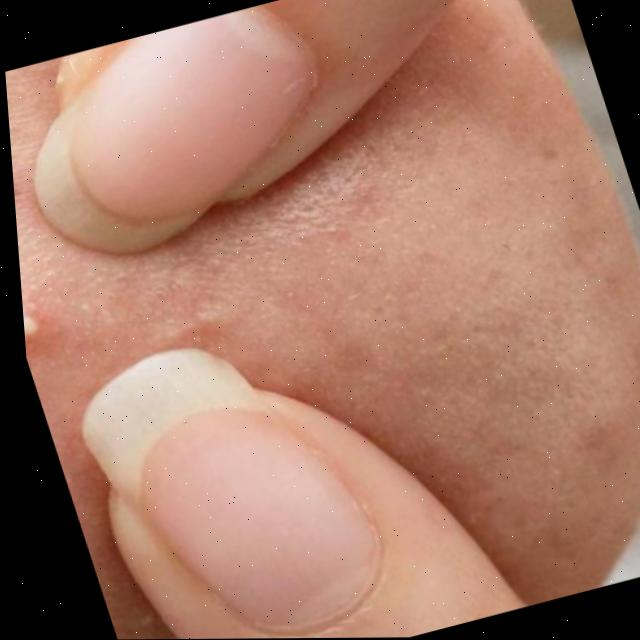Acne: (23, 307, 49, 343)
